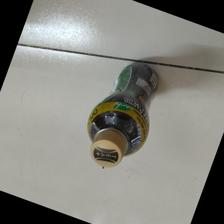Olong: (84, 57, 163, 168)
